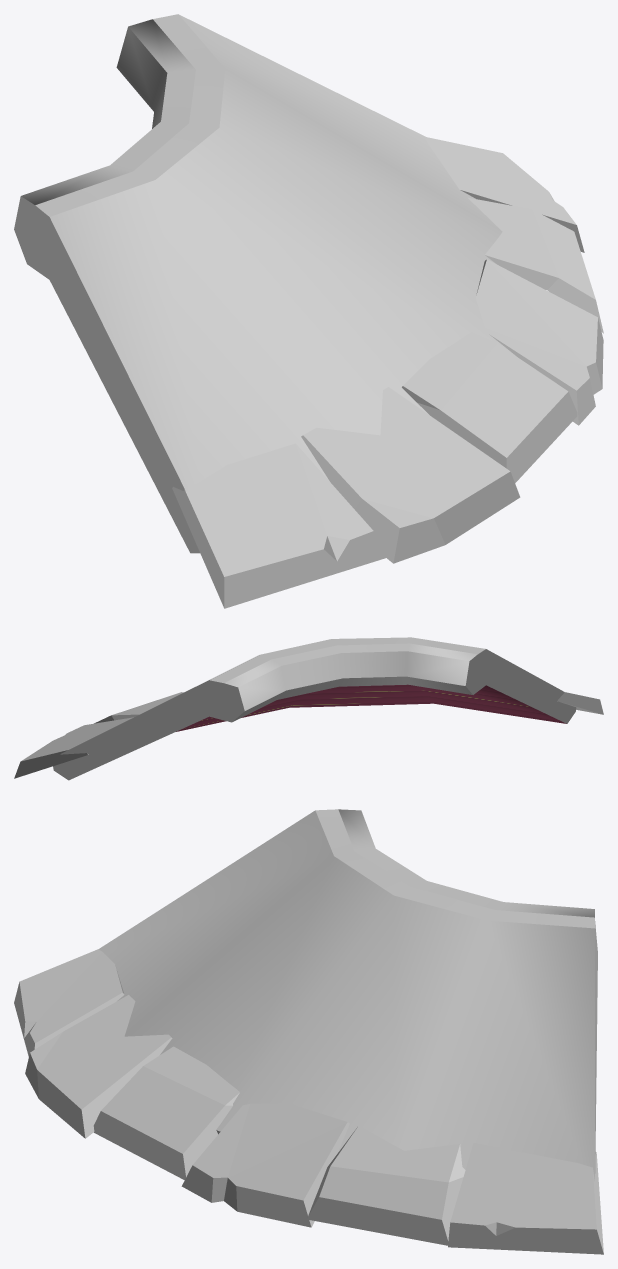
File: SM_Bld_Roof_S_Trim_Corner_01.fbx
3 views of the same model, one above another, from view 1: azimuth 30°, elevation 25°; view 2: azimuth 150°, elevation 25°; view 3: azimuth 270°, elevation 25° (orthographic). The views are drawn at different scales.
Parts seen in each view (by area): view 1: SM_Bld_Roof_S_Trim_Corner_01; view 2: SM_Bld_Roof_S_Trim_Corner_01; view 3: SM_Bld_Roof_S_Trim_Corner_01.
Part boxes in pixels (x1,y1,x2,y2): SM_Bld_Roof_S_Trim_Corner_01: (14,14,603,608); SM_Bld_Roof_S_Trim_Corner_01: (14,637,603,780); SM_Bld_Roof_S_Trim_Corner_01: (14,809,603,1254).
Size of the model in its own units: 292 by 111 by 287.
